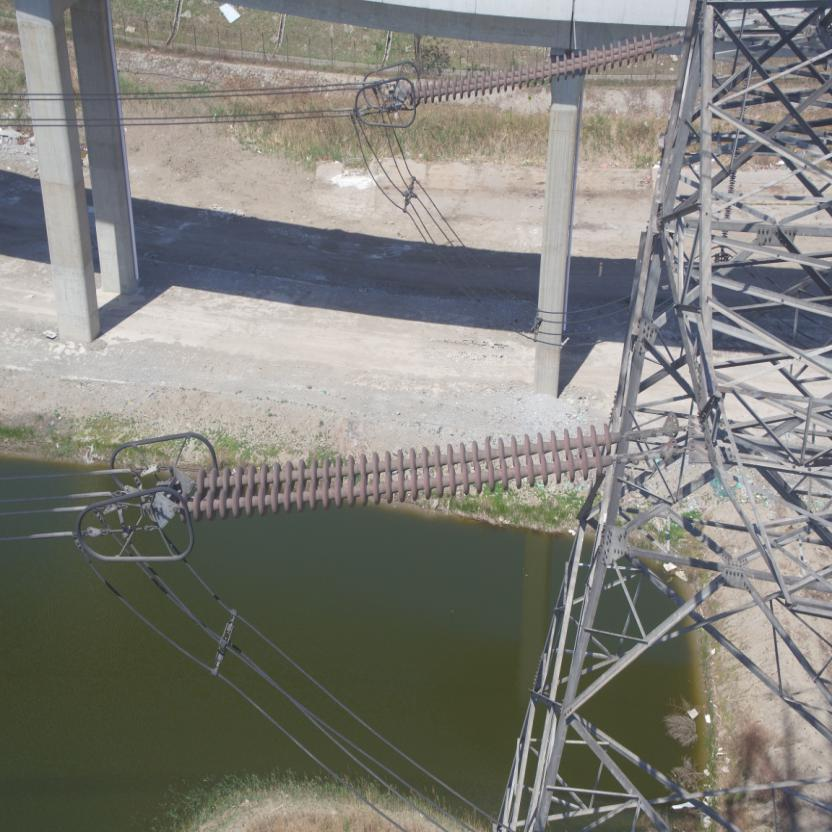insulator: (171, 417, 644, 525), (406, 26, 672, 107)
